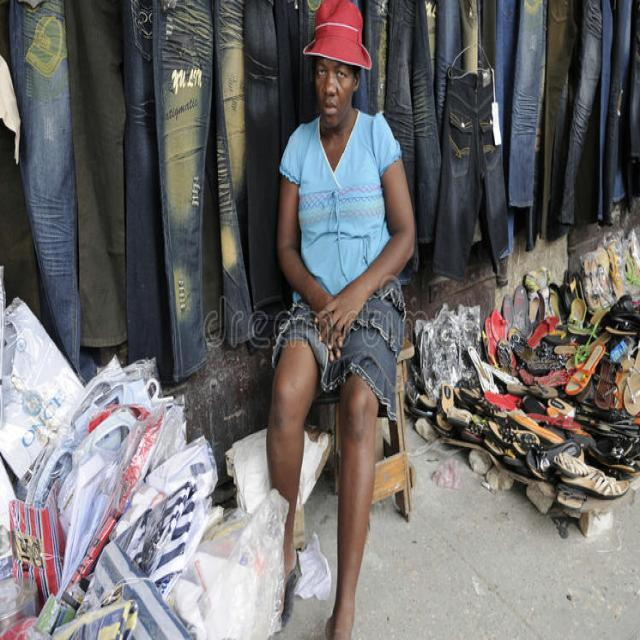clothes: (9, 0, 156, 343), (384, 0, 524, 279), (149, 0, 253, 358)
